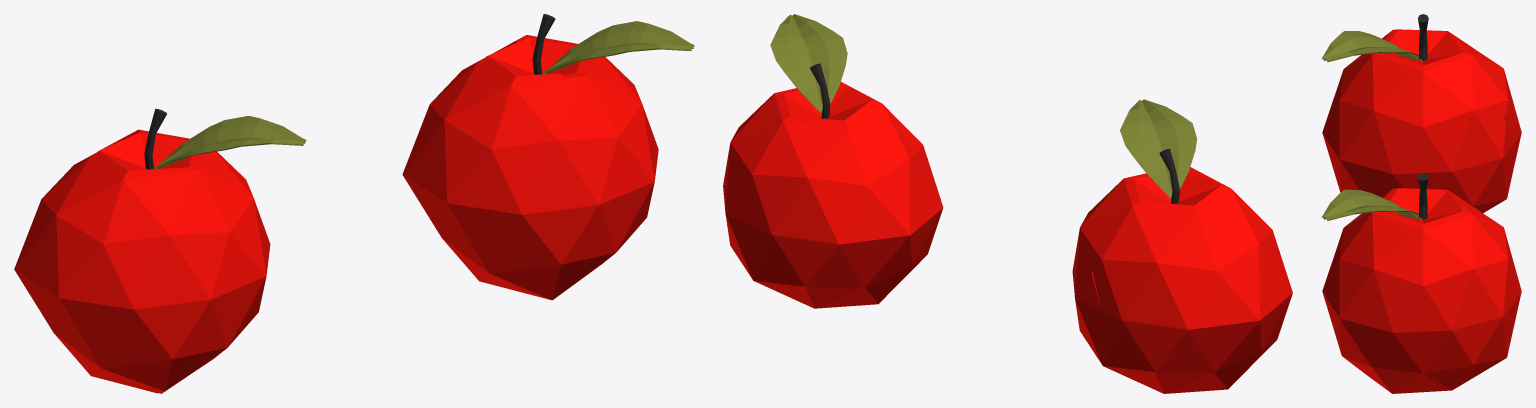
Rendered from Apple (1).fbx.
The picture shows the model from 3 angles, left to right: view 1: azimuth 30°, elevation 25°; view 2: azimuth 150°, elevation 25°; view 3: azimuth 270°, elevation 25°; orthographic projection. The views are drawn at different scales.
Parts seen in each view (by area): view 1: Icosphere.007, Icosphere.008, Icosphere.006, Icosphere, Icosphere.003, Icosphere.001, Icosphere.004, Icosphere.005, Icosphere.002; view 2: Icosphere.007, Icosphere.006, Icosphere.008, Icosphere, Icosphere.004, Icosphere.001, Icosphere.003; view 3: Icosphere, Icosphere.003, Icosphere.008, Icosphere.007, Icosphere.004, Icosphere.001, Icosphere.006, Icosphere.002, Icosphere.005.
Part boxes in pixels (left/top/right/bottom): Icosphere.007: left=402, top=42, right=598, bottom=300; Icosphere.008: left=66, top=129, right=242, bottom=328; Icosphere.006: left=14, top=158, right=215, bottom=393; Icosphere: left=507, top=35, right=658, bottom=287; Icosphere.003: left=160, top=152, right=270, bottom=393; Icosphere.001: left=542, top=21, right=694, bottom=74; Icosphere.004: left=154, top=116, right=306, bottom=169; Icosphere.005: left=144, top=108, right=166, bottom=169; Icosphere.002: left=532, top=14, right=555, bottom=74; Icosphere.007: left=772, top=86, right=943, bottom=308; Icosphere.006: left=1092, top=235, right=1292, bottom=393; Icosphere.008: left=1090, top=167, right=1275, bottom=268; Icosphere: left=723, top=82, right=848, bottom=297; Icosphere.004: left=1120, top=99, right=1196, bottom=199; Icosphere.001: left=770, top=14, right=847, bottom=114; Icosphere.003: left=1072, top=187, right=1162, bottom=393; Icosphere: left=1322, top=205, right=1521, bottom=393; Icosphere.003: left=1329, top=85, right=1514, bottom=212; Icosphere.008: left=1322, top=29, right=1508, bottom=161; Icosphere.007: left=1323, top=188, right=1521, bottom=291; Icosphere.004: left=1321, top=31, right=1421, bottom=62; Icosphere.001: left=1321, top=189, right=1422, bottom=220; Icosphere.006: left=1487, top=57, right=1521, bottom=161; Icosphere.002: left=1418, top=172, right=1428, bottom=219; Icosphere.005: left=1418, top=14, right=1428, bottom=60.
Size of the model in its own units: 312 by 130 by 107.
